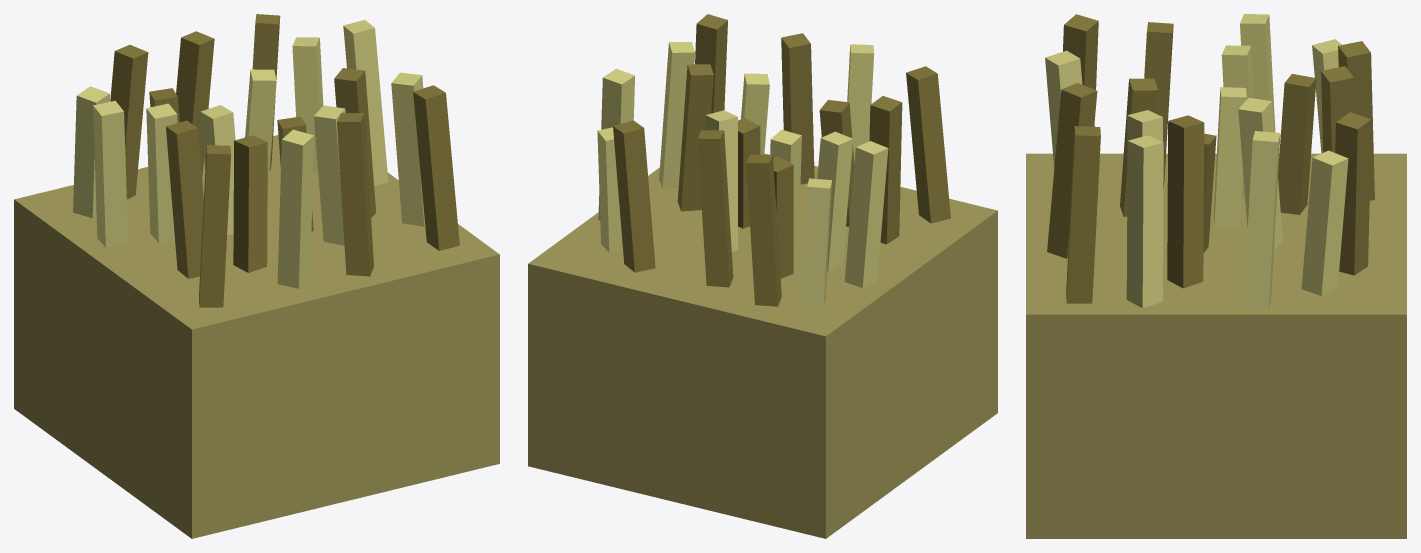
Rendered from plains.dae.
3 views of the same model, side by side, from view 1: azimuth 30°, elevation 25°; view 2: azimuth 150°, elevation 25°; view 3: azimuth 270°, elevation 25° (orthographic). The views are drawn at different scales.
Visible parts, largest first — view 1: Base, Cube_004, Cube_005, Cube_002, Cube_020, Cube_009, Cube_000, Cube_007, Cube_017, Cube_016, Cube_011, Cube_018 (+8 smaller); view 2: Base, Cube_007, Cube_000, Cube_010, Cube_012, Cube_016, Cube_002, Cube_001, Cube_019, Cube_017, Cube_020, Cube_018 (+10 smaller); view 3: Base, Cube_001, Cube_017, Cube_013, Cube_011, Cube_004, Cube_010, Cube_015, Cube_002, Cube_006, Cube_020, Cube_003 (+10 smaller).
Boxes of the visible parts, x1,y1,x2,y2 form: Base: (14,135,499,538); Cube_004: (413,85,459,250); Cube_005: (277,129,314,288); Cube_002: (337,113,373,276); Cube_020: (166,120,203,278); Cube_009: (233,135,267,272); Cube_000: (93,100,128,247); Cube_007: (199,145,231,307); Cube_017: (391,72,425,226); Cube_016: (110,45,148,199); Cube_011: (343,20,388,185); Cube_018: (146,103,177,243); Base: (528,153,997,538); Cube_007: (906,66,950,223); Cube_000: (844,141,888,287); Cube_010: (613,120,655,272); Cube_012: (697,130,733,287); Cube_016: (746,154,781,306); Cube_002: (781,33,814,184); Cube_001: (677,64,713,211); Cube_019: (800,178,832,309); Cube_017: (659,42,695,188); Cube_020: (869,96,902,244); Cube_018: (817,131,853,271); Base: (1026,153,1406,538); Cube_001: (1167,115,1204,288); Cube_017: (1126,135,1163,308); Cube_013: (1301,150,1348,295); Cube_011: (1243,131,1280,310); Cube_004: (1066,126,1100,303); Cube_010: (1335,112,1371,275); Cube_015: (1278,74,1316,214); Cube_002: (1047,83,1097,258); Cube_006: (1213,87,1246,226); Cube_020: (1144,22,1173,188); Cube_003: (1238,98,1282,249).
Bounding box in the file's own units: 1 × 1 × 1.13.
